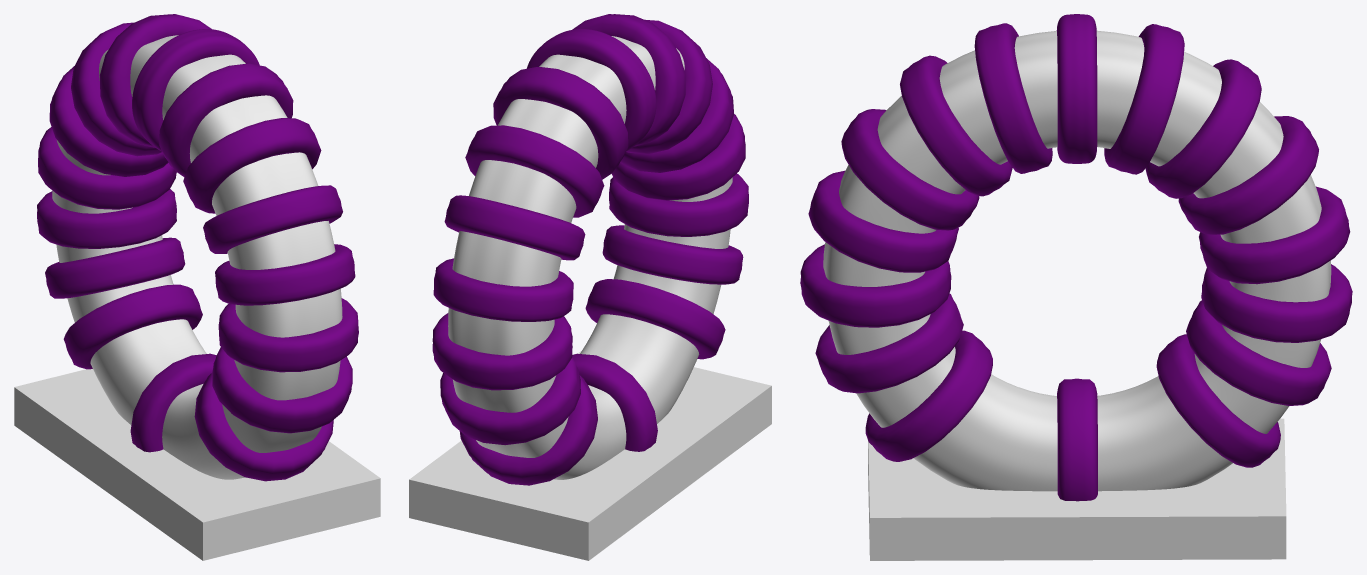
Rendered from LaserTower_InductionCoil.fbx.
3 views of the same model, side by side, from view 1: azimuth 30°, elevation 25°; view 2: azimuth 150°, elevation 25°; view 3: azimuth 270°, elevation 25° (orthographic). The views are drawn at different scales.
Visible parts, largest first — view 1: innerCoil, coilBase, pTorus3, pTorus7, pTorus4, pTorus8, pTorus14, pTorus17, pTorus6, pTorus5, pTorus15, pTorus13 (+6 smaller); view 2: innerCoil, coilBase, pTorus14, pTorus10, pTorus11, pTorus15, pTorus13, pTorus9, pTorus7, pTorus8, pTorus12, pTorus2 (+6 smaller); view 3: innerCoil, coilBase, pTorus13, pTorus12, pTorus14, pTorus7, pTorus5, pTorus6, pTorus8, pTorus11, pTorus9, pTorus15 (+6 smaller).
Part boxes in pixels (x1=…): innerCoil: x1=52, y1=35, x2=342, y2=479; coilBase: x1=14, y1=369, x2=380, y2=560; pTorus3: x1=159, y1=63, x2=293, y2=177; pTorus7: x1=218, y1=298, x2=358, y2=372; pTorus4: x1=183, y1=118, x2=321, y2=213; pTorus8: x1=212, y1=347, x2=352, y2=433; pTorus14: x1=37, y1=189, x2=176, y2=248; pTorus17: x1=63, y1=284, x2=202, y2=369; pTorus6: x1=215, y1=244, x2=355, y2=305; pTorus5: x1=203, y1=185, x2=342, y2=253; pTorus15: x1=45, y1=237, x2=185, y2=298; pTorus13: x1=38, y1=127, x2=176, y2=209; innerCoil: x1=448, y1=36, x2=732, y2=479; coilBase: x1=409, y1=350, x2=771, y2=560; pTorus14: x1=432, y1=313, x2=572, y2=390; pTorus10: x1=493, y1=67, x2=628, y2=179; pTorus11: x1=465, y1=125, x2=604, y2=217; pTorus15: x1=440, y1=357, x2=580, y2=445; pTorus13: x1=433, y1=258, x2=573, y2=321; pTorus9: x1=585, y1=279, x2=725, y2=359; pTorus7: x1=609, y1=173, x2=748, y2=236; pTorus8: x1=602, y1=225, x2=743, y2=284; pTorus12: x1=444, y1=195, x2=585, y2=260; pTorus2: x1=527, y1=29, x2=656, y2=150; innerCoil: x1=823, y1=30, x2=1331, y2=491; coilBase: x1=868, y1=418, x2=1286, y2=560; pTorus13: x1=1199, y1=186, x2=1350, y2=284; pTorus12: x1=1178, y1=116, x2=1318, y2=234; pTorus14: x1=1201, y1=264, x2=1352, y2=342; pTorus7: x1=800, y1=244, x2=951, y2=327; pTorus5: x1=841, y1=109, x2=979, y2=230; pTorus6: x1=808, y1=170, x2=958, y2=272; pTorus8: x1=815, y1=293, x2=963, y2=393; pTorus11: x1=1145, y1=59, x2=1261, y2=198; pTorus9: x1=865, y1=330, x2=992, y2=461; pTorus15: x1=1186, y1=300, x2=1331, y2=405.
Bounding box in the file's own units: 1.14 × 2.68 × 2.68.
